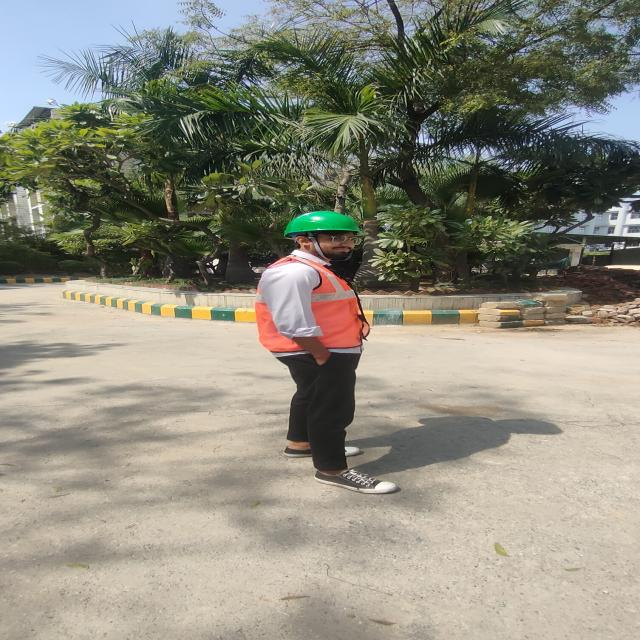safe: (256, 212, 394, 492)
